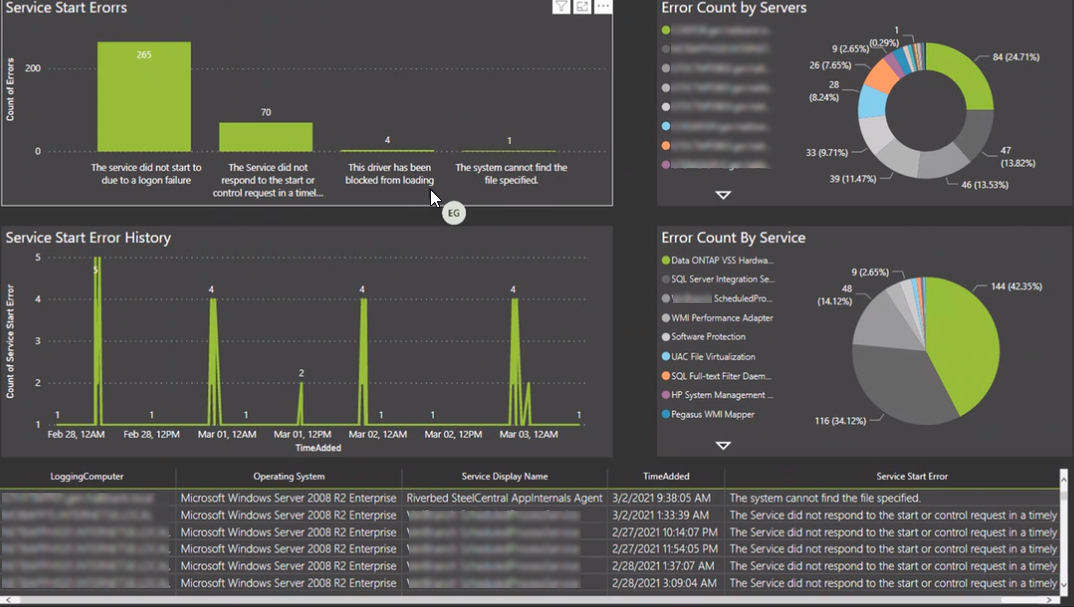

This screenshot's page, from the dashboard's own definition file:
{"tool":"powerbi","page":{"name":"Service Start Errors","canvas":[1280,720],"ordinal":0},"visuals":[{"type":"columnChart","title":"Service Start Erorrs","fields":{"Category":["ServiceFailedToStartEvents.ErrorCode"],"Y":["CountNonNull(ServiceFailedToStartEvents.ErrorCode)"]},"box":[9.7,0,720,247],"z":0},{"type":"tableEx","fields":{"Values":["ServiceFailedToStartEvents.LoggingComputer","ServiceFailedToStartEvents.MonitoringObjectDisplayName","ServiceFailedToStartEvents.ServiceDisplayName","ServiceFailedToStartEvents.TimeAdded","ServiceFailedToStartEvents.ErrorCode"]},"box":[0,551.3,1270.4,168.7],"z":1},{"type":"donutChart","title":"Error Count by Servers","fields":{"Y":["CountNonNull(ServiceFailedToStartEvents.LoggingComputer)"],"Category":["ServiceFailedToStartEvents.LoggingComputer"]},"box":[781.3,0,489.2,246.8],"z":2},{"type":"pieChart","title":"Error Count By Service","fields":{"Y":["CountNonNull(ServiceFailedToStartEvents.ServiceDisplayName)"],"Category":["ServiceFailedToStartEvents.ServiceDisplayName"]},"box":[781.3,270.8,489.2,270.8],"z":3},{"type":"lineChart","title":"Service Start Error History","fields":{"Y":["CountNonNull(ServiceFailedToStartEvents.ErrorCode)"],"Category":["ServiceFailedToStartEvents.TimeAdded"]},"box":[9.8,270.8,720,271.7],"z":4}]}

Visuals, with their boxes in screenshot pixels (x1, y1, x2, y2), scaled from the page's 1280x720 canvas onto the 1074x607 screenshot:
"Service Start Erorrs" columnChart: (left=8, top=0, right=612, bottom=208)
tableEx - ServiceFailedToStartEvents.LoggingComputer x ServiceFailedToStartEvents.MonitoringObjectDisplayName: (left=0, top=465, right=1066, bottom=606)
"Error Count by Servers" donutChart: (left=656, top=0, right=1066, bottom=208)
"Error Count By Service" pieChart: (left=656, top=228, right=1066, bottom=457)
"Service Start Error History" lineChart: (left=8, top=228, right=612, bottom=457)
